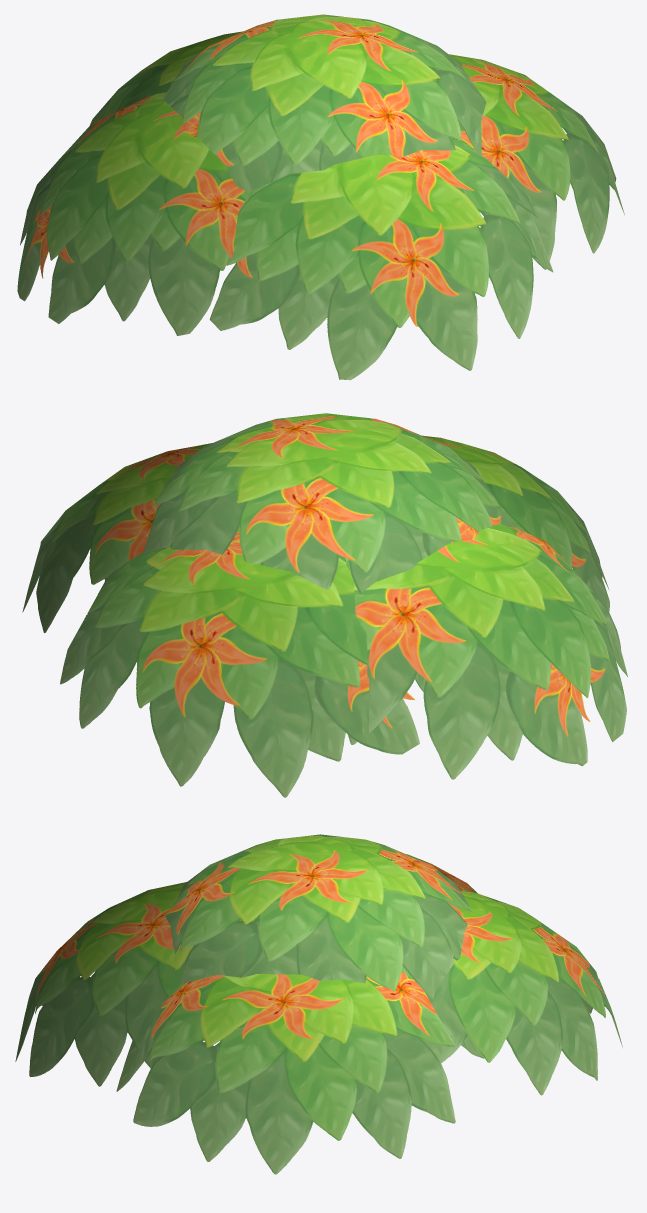
File: SM_MucchioDerba.fbx
3 views of the same model, one above another, from view 1: azimuth 30°, elevation 25°; view 2: azimuth 150°, elevation 25°; view 3: azimuth 270°, elevation 25° (orthographic). The views are drawn at different scales.
Visible parts, largest first — view 1: SM_MucchioDerba1; view 2: SM_MucchioDerba1; view 3: SM_MucchioDerba1.
Part boxes in pixels (x1,y1,x2,y2): SM_MucchioDerba1: (17,14,624,380); SM_MucchioDerba1: (22,413,627,797); SM_MucchioDerba1: (15,834,622,1174).
Size of the model in its own units: 565 by 216 by 570.
